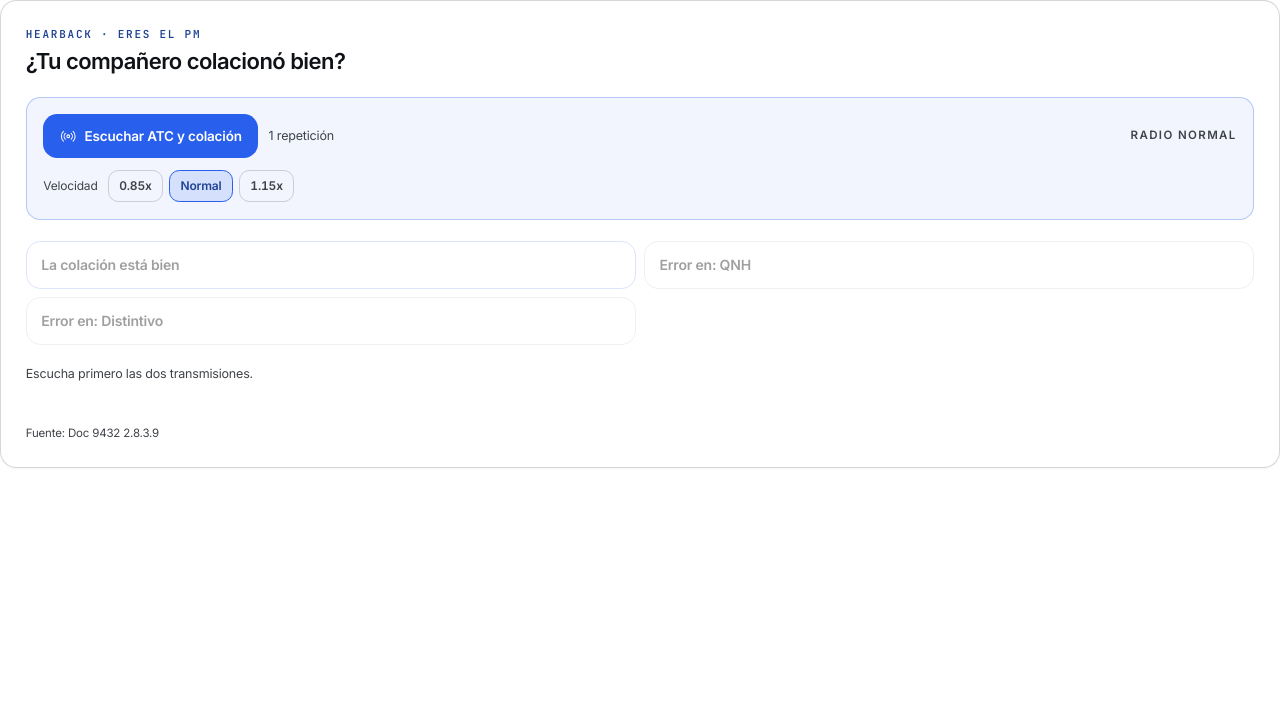
Test: interacción › Hearback: sin haber escuchado no se puede responder
The image size is (1280, 720).
Check: the button "La colación está bien" is disabled, box x1=26 y1=241 x2=636 y2=289
Click the button "Escuchar ATC y colación": (151, 136) x1=43 y1=114 x2=258 y2=158
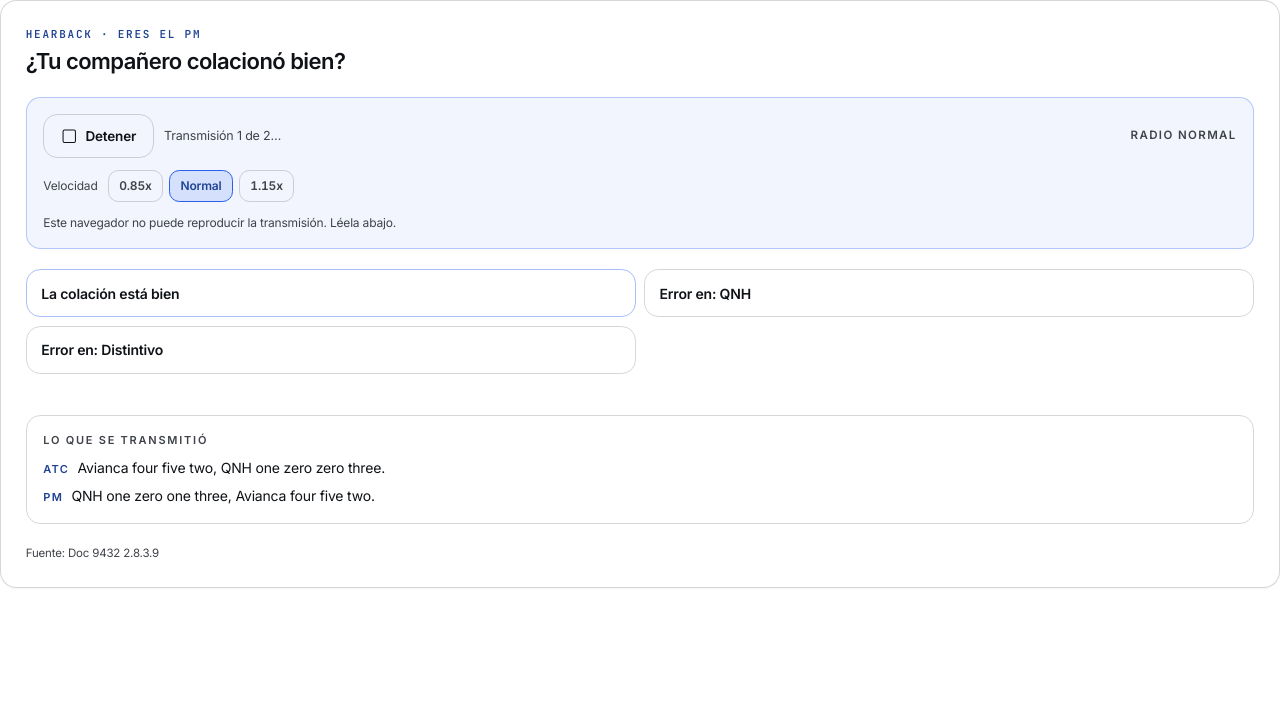
Check: the button "La colación está bien" is enabled, box x1=26 y1=269 x2=636 y2=317
Click the button "Error en: QNH": (705, 293) x1=644 y1=269 x2=1254 y2=317
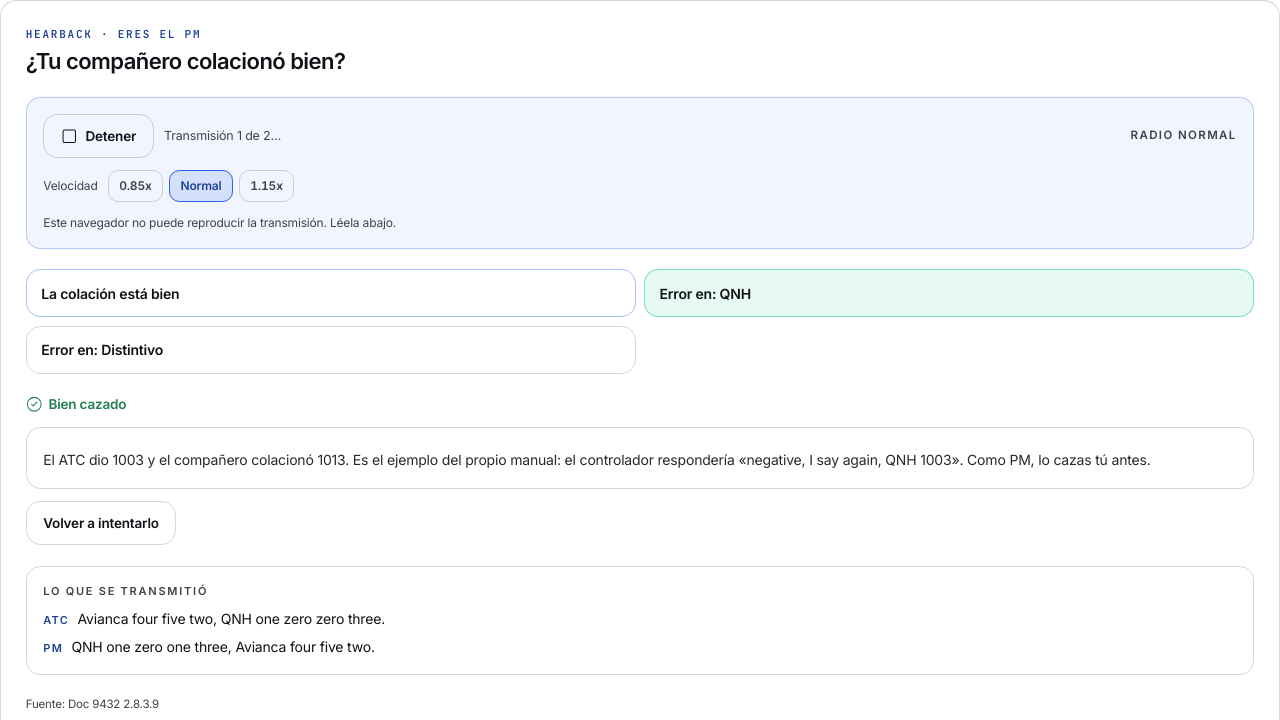
Check: the message shows "Bien cazado", box x1=48 y1=396 x2=126 y2=412
